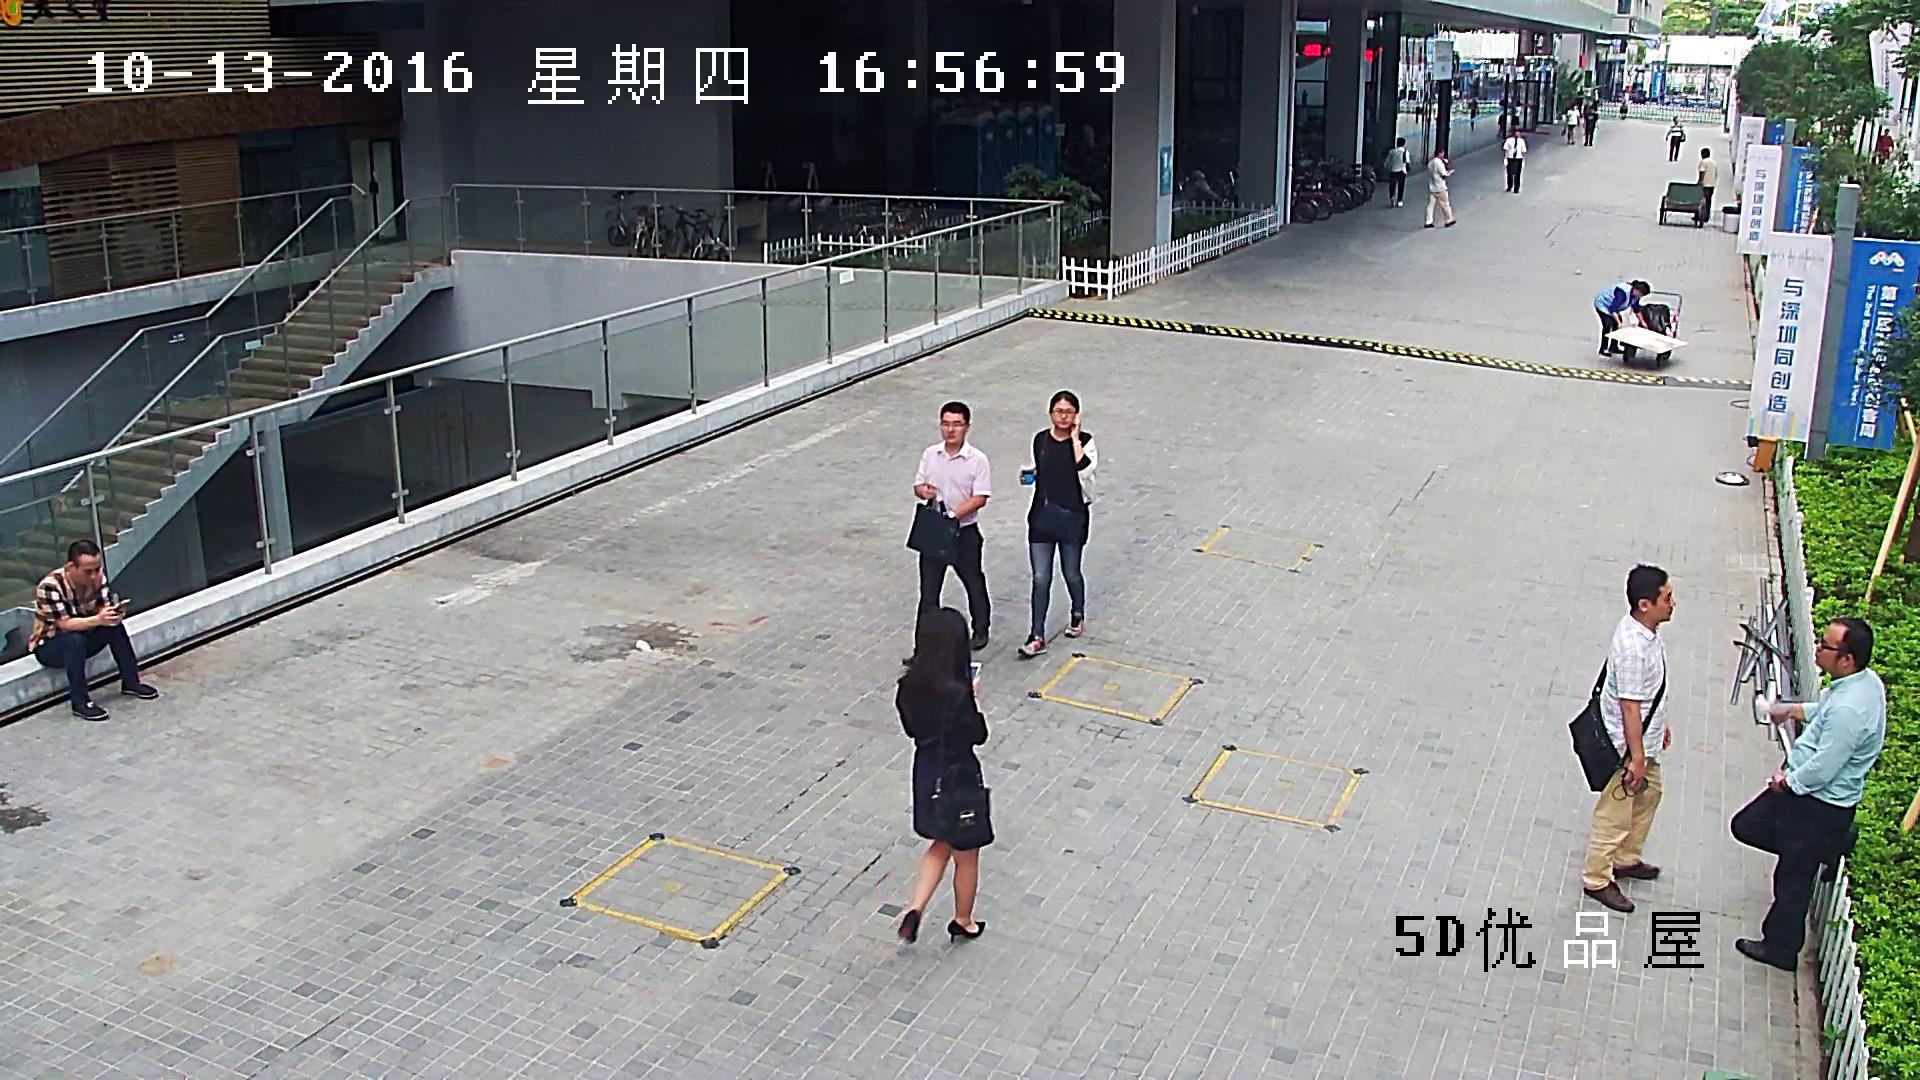person: (1732, 615, 1888, 972), (1570, 563, 1673, 915), (892, 606, 988, 944), (28, 537, 158, 721), (903, 401, 993, 664), (1019, 390, 1099, 655), (1593, 279, 1682, 370), (1658, 147, 1719, 228), (1593, 280, 1650, 358), (1424, 147, 1455, 229), (1690, 147, 1718, 222), (1384, 138, 1411, 208), (1501, 127, 1527, 192), (1665, 116, 1686, 162), (1561, 104, 1579, 145), (1583, 106, 1598, 146), (1877, 128, 1894, 163), (1564, 104, 1579, 145), (1495, 100, 1505, 136), (1469, 97, 1478, 130), (1511, 99, 1521, 130)
